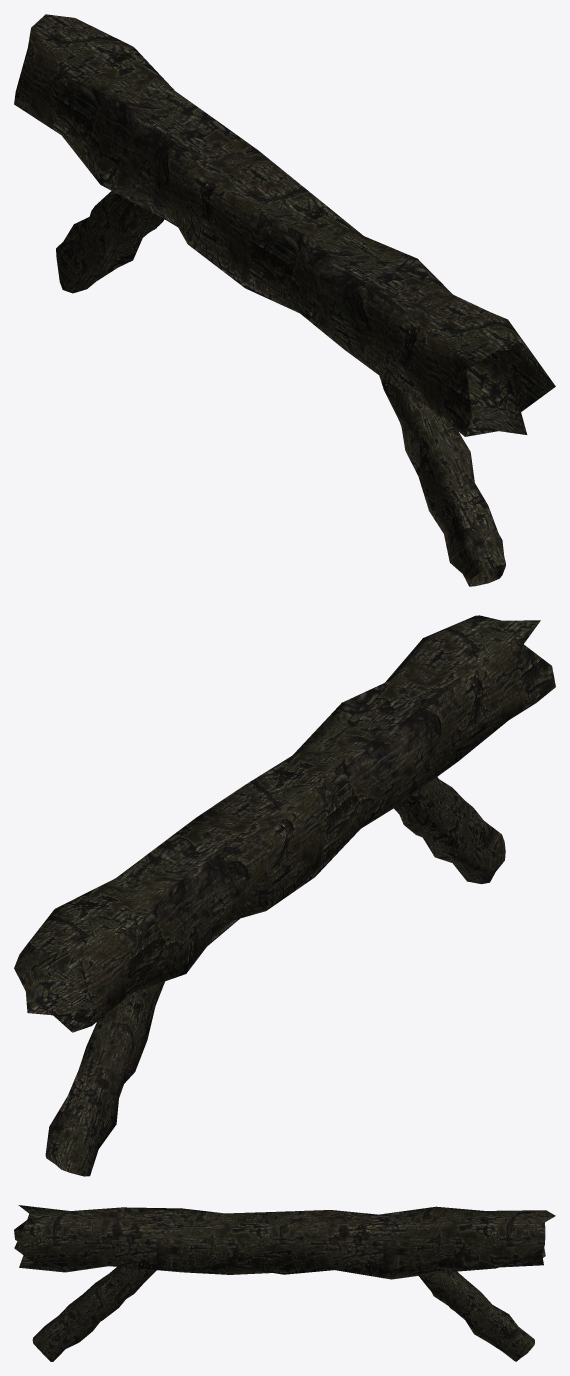
The model's file is welder_corridor.dae.
3 renders of one model, top to bottom at view 1: azimuth 30°, elevation 25°; view 2: azimuth 150°, elevation 25°; view 3: azimuth 270°, elevation 25°, orthographic. The views are drawn at different scales.
Parts seen in each view (by area): view 1: polySurface1; view 2: polySurface1; view 3: polySurface1.
Boxes of the visible parts, x1,y1,x2,y2 form: polySurface1: [14, 14, 555, 586]; polySurface1: [14, 615, 555, 1176]; polySurface1: [14, 1205, 555, 1361].
Bounding box in the file's own units: 0.7204 × 1.84 × 6.14.
